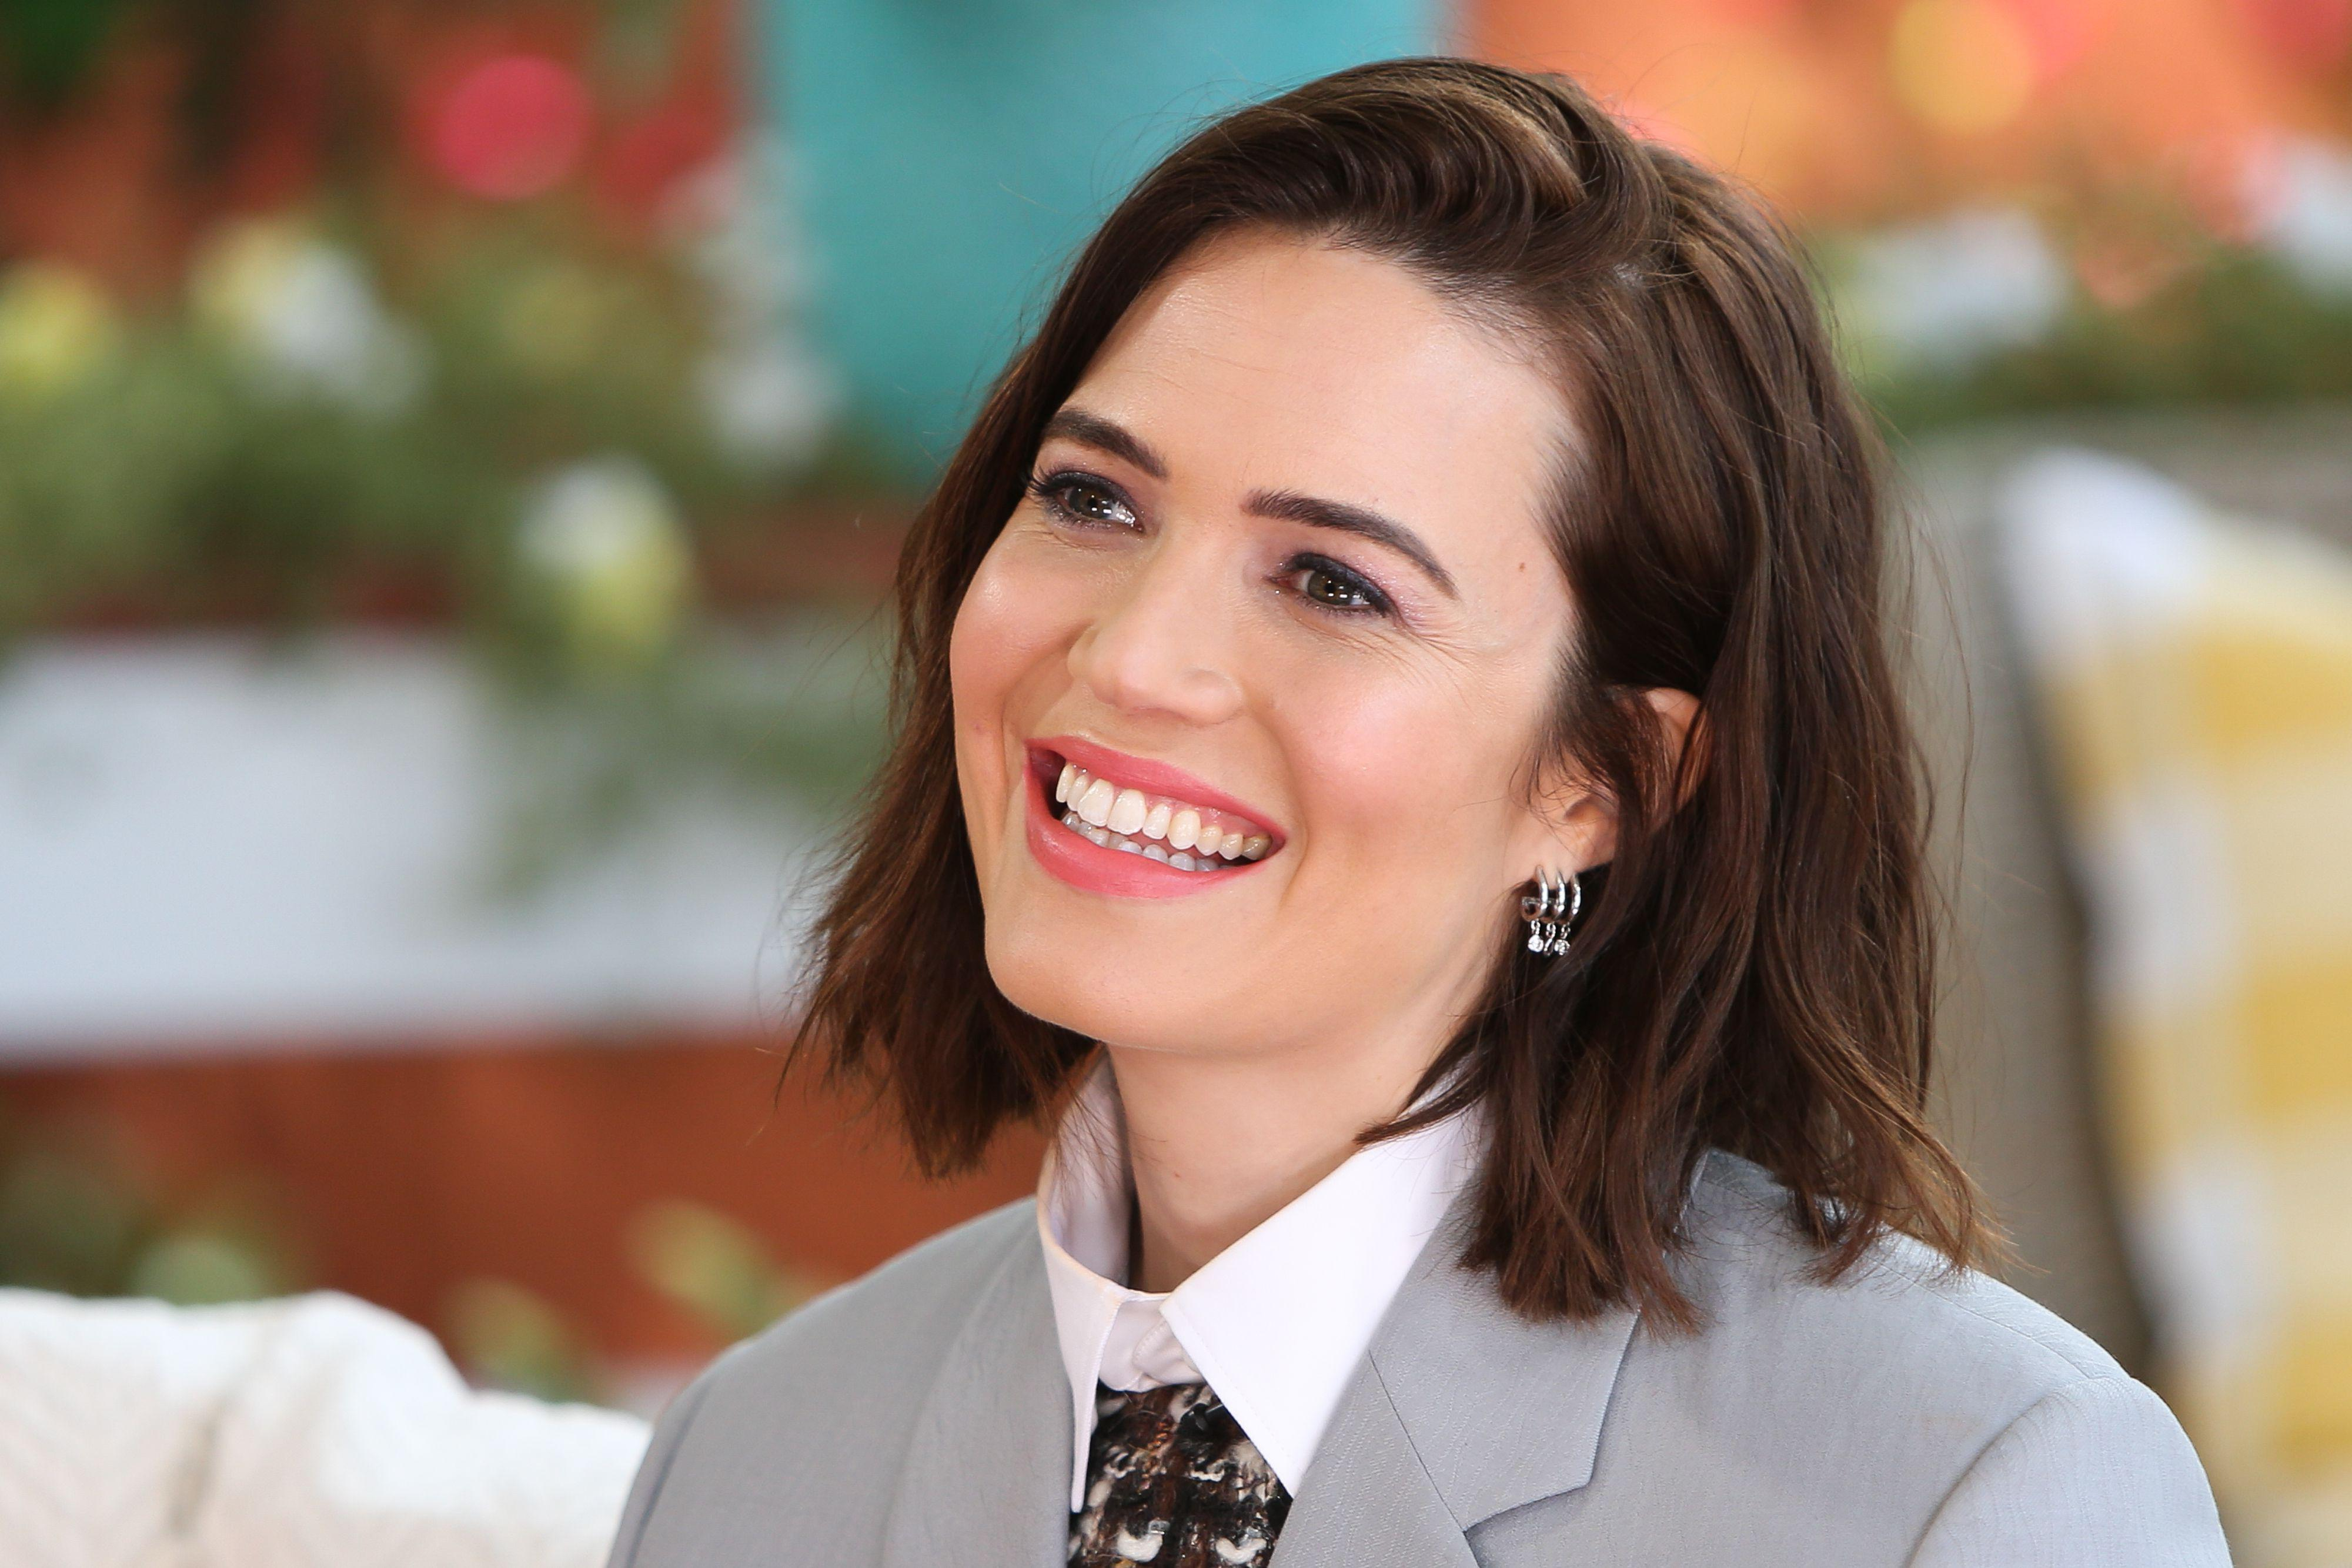face: (949, 235, 1557, 1040)
